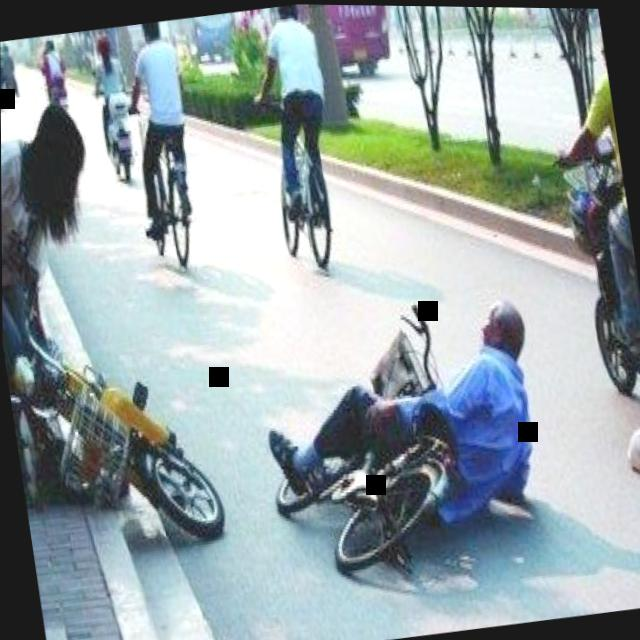Fall-Detected: (245, 263, 577, 566)
